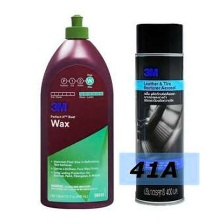aerosol_cans: (131, 18, 187, 209)
cleaning_solution: (36, 10, 119, 212)
